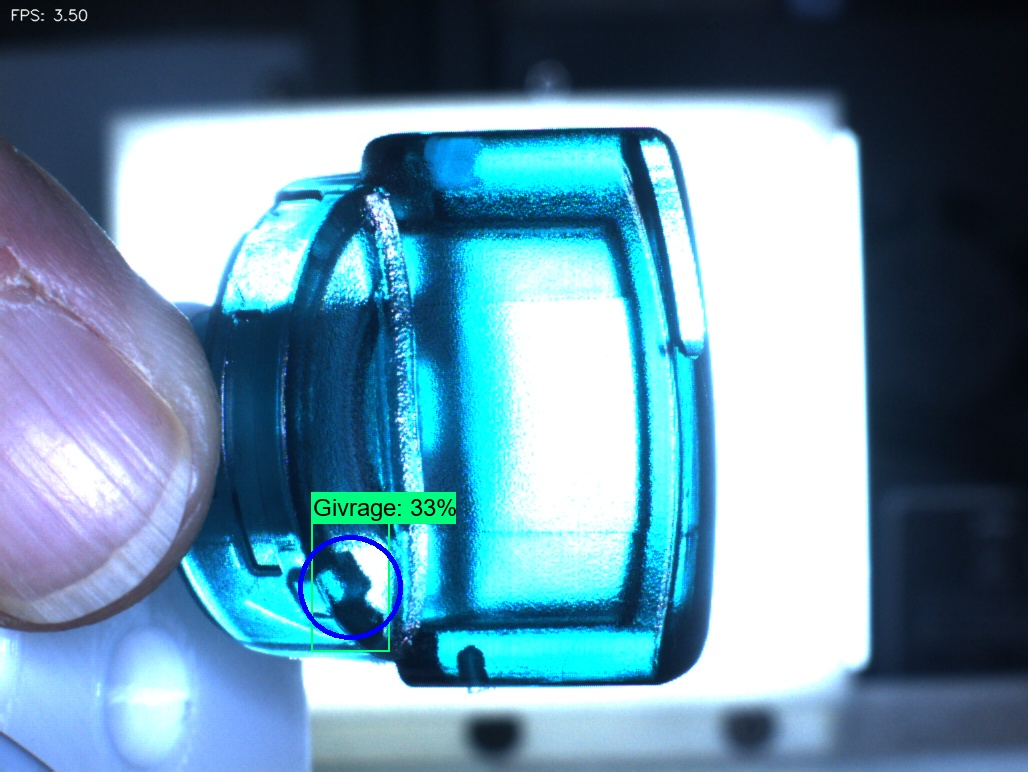Bulle: (431, 608, 508, 690)
